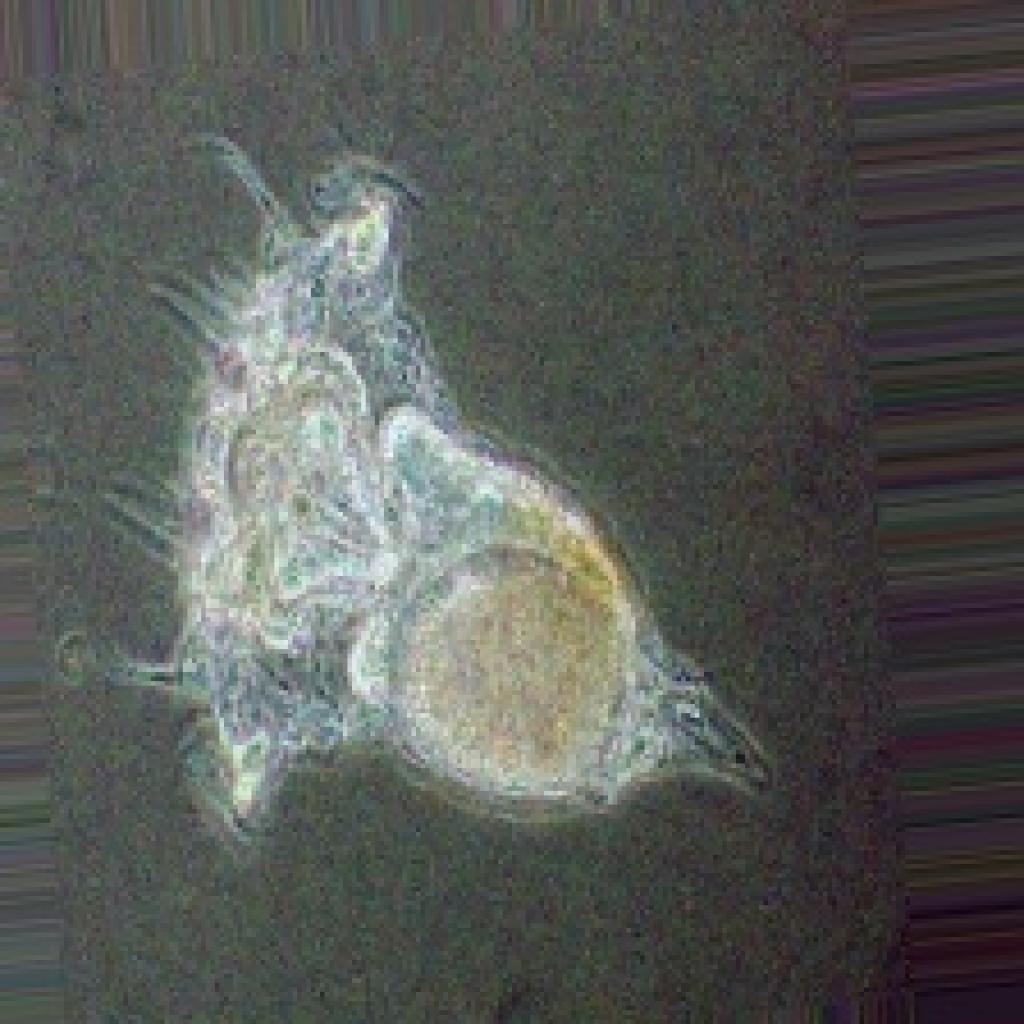Rotifer: (82, 119, 777, 846)
